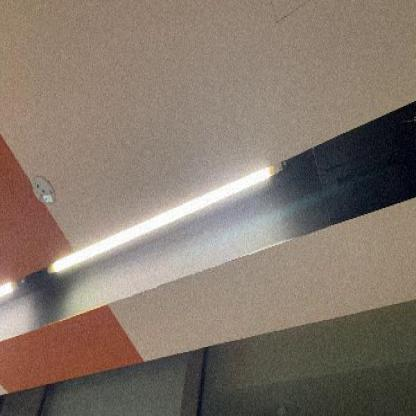light_on: (47, 158, 283, 290), (0, 266, 20, 316)
